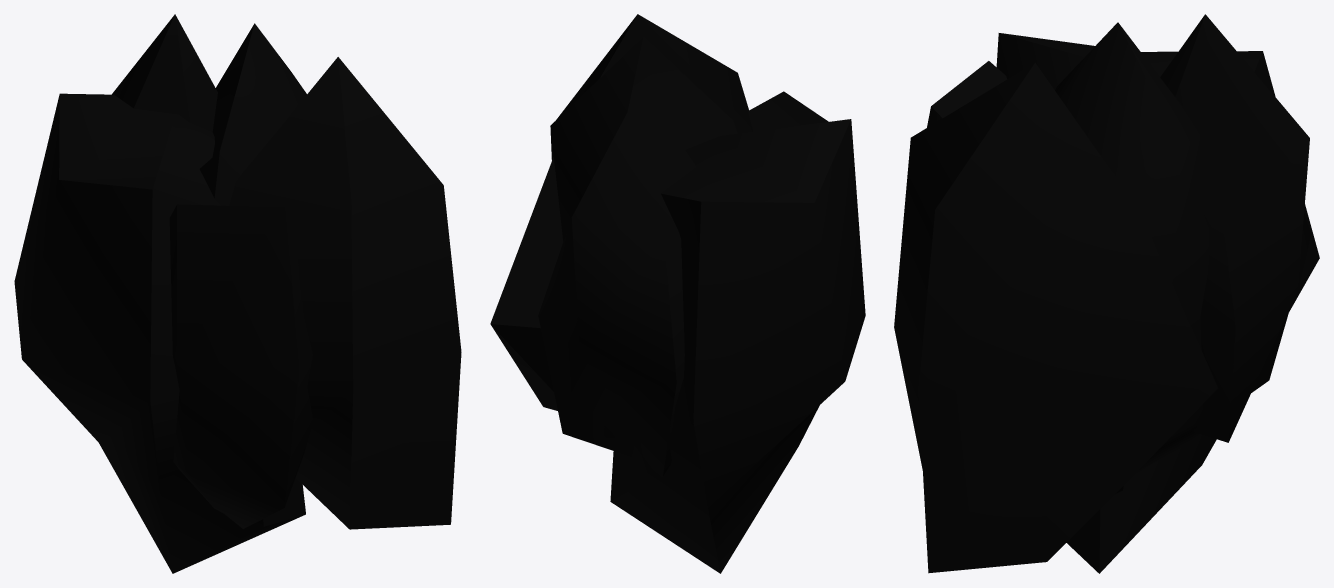
File: SM_bush_tall.fbx
3 renders of one model, left to right at view 1: azimuth 30°, elevation 25°; view 2: azimuth 150°, elevation 25°; view 3: azimuth 270°, elevation 25°, orthographic. The views are drawn at different scales.
Visible parts, largest first — view 1: bush_tall; view 2: bush_tall; view 3: bush_tall.
Boxes of the visible parts, box(x1,y1,x2,y2) form: bush_tall: box(14, 14, 461, 573); bush_tall: box(490, 14, 865, 573); bush_tall: box(894, 14, 1319, 573).
Size of the model in its own units: 1.66 by 2.37 by 1.6.
